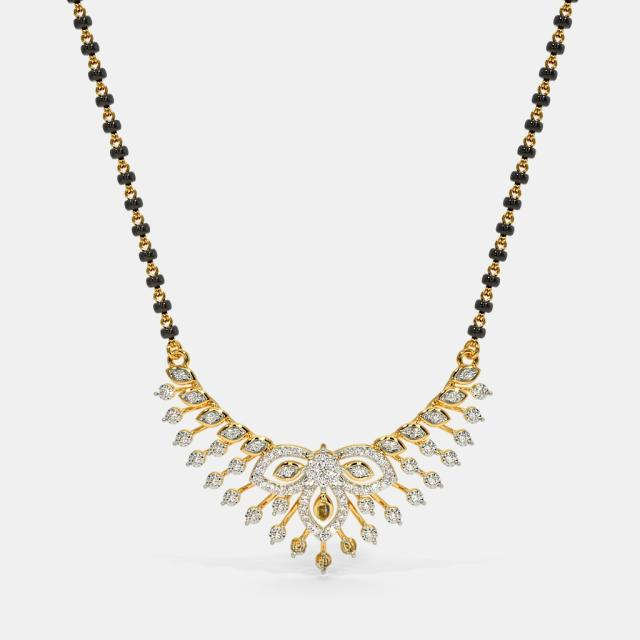missing gem: (314, 496, 332, 522), (343, 537, 356, 554), (315, 553, 330, 567), (292, 539, 305, 554)
